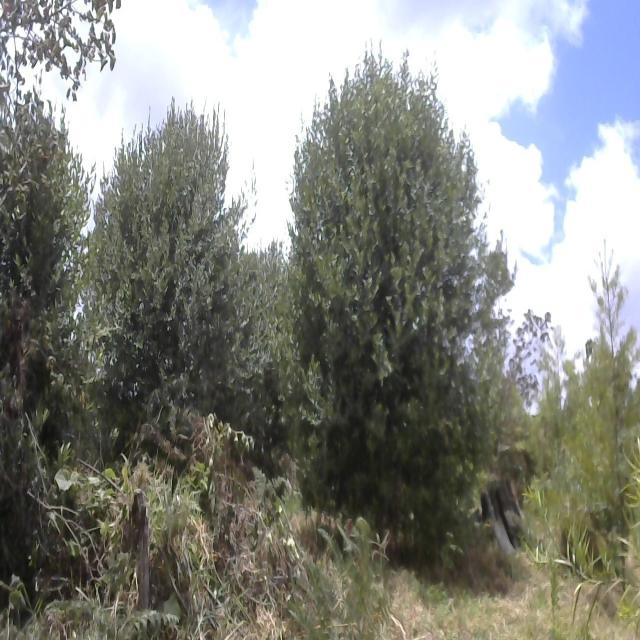Olea europea -africana-: (290, 63, 512, 539), (89, 94, 253, 432), (0, 75, 93, 409)
Podocarpus falcatus: (564, 232, 640, 632)
